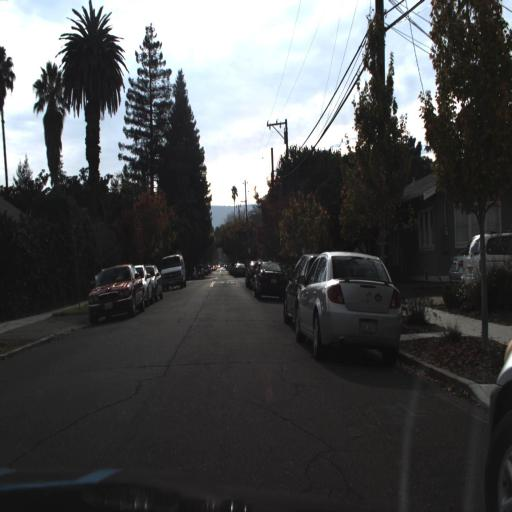car: (290, 243, 426, 371), (293, 249, 405, 362), (486, 334, 512, 512), (280, 245, 328, 337), (448, 232, 512, 292), (84, 263, 143, 324), (282, 253, 313, 326), (156, 249, 189, 294), (124, 260, 153, 308), (253, 257, 286, 299), (158, 253, 185, 293), (142, 261, 167, 303), (132, 263, 151, 306), (149, 262, 163, 302), (228, 261, 244, 281)
